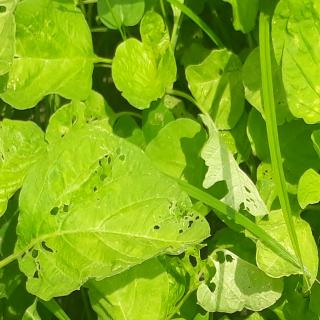karat_putih: (216, 140, 260, 213), (214, 261, 274, 312), (19, 12, 58, 47), (294, 79, 320, 121)
